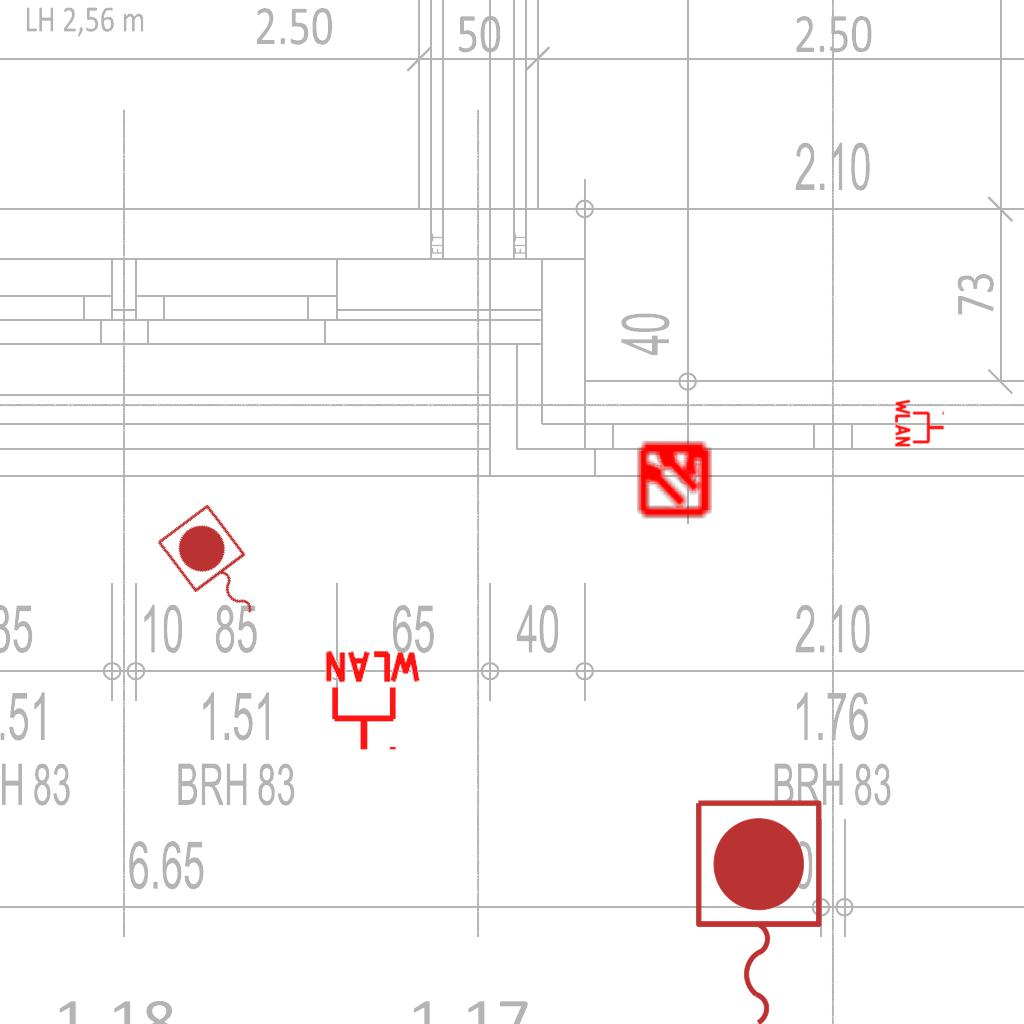OT_Multisensormelder_(Kombination_RMO_WMD): (618, 421, 731, 534)
WLAN: (321, 649, 425, 754), (894, 397, 946, 449)
Zugtaster: (685, 792, 829, 1024), (150, 498, 282, 640)
